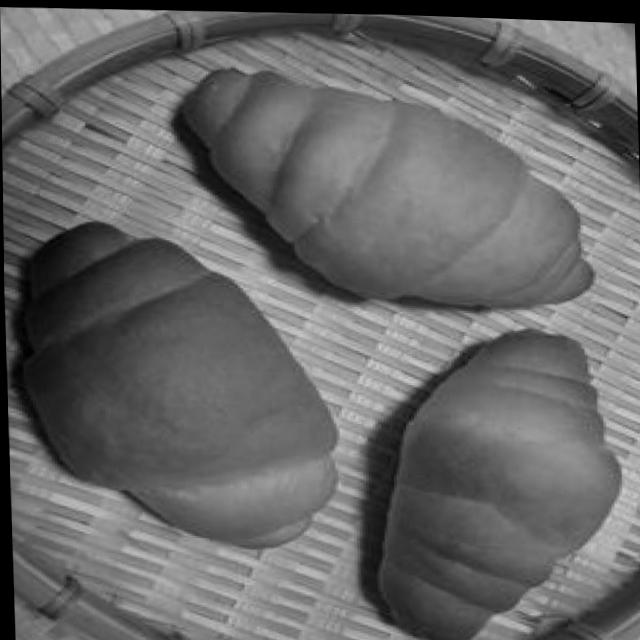面包点心: (3, 209, 358, 564)
